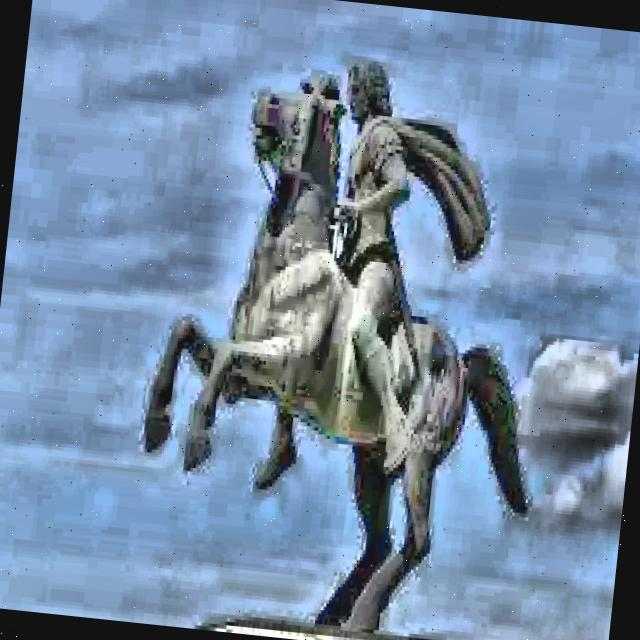alexander the great monument: (103, 36, 582, 640)
